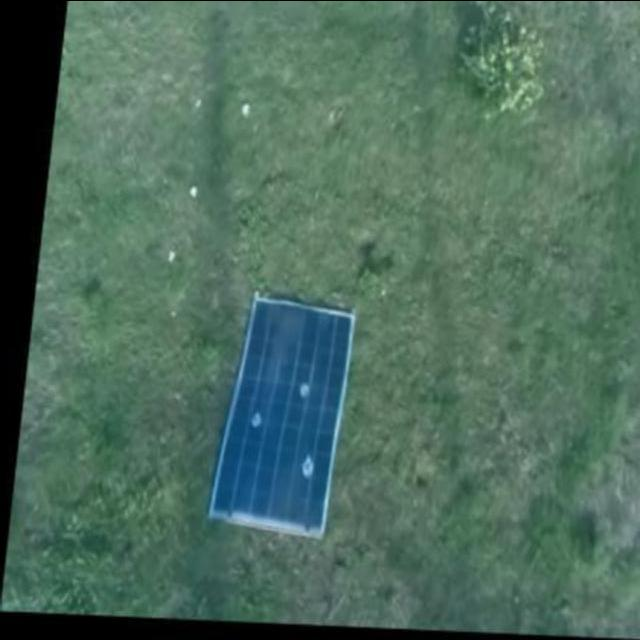soiled: (210, 289, 357, 536)
